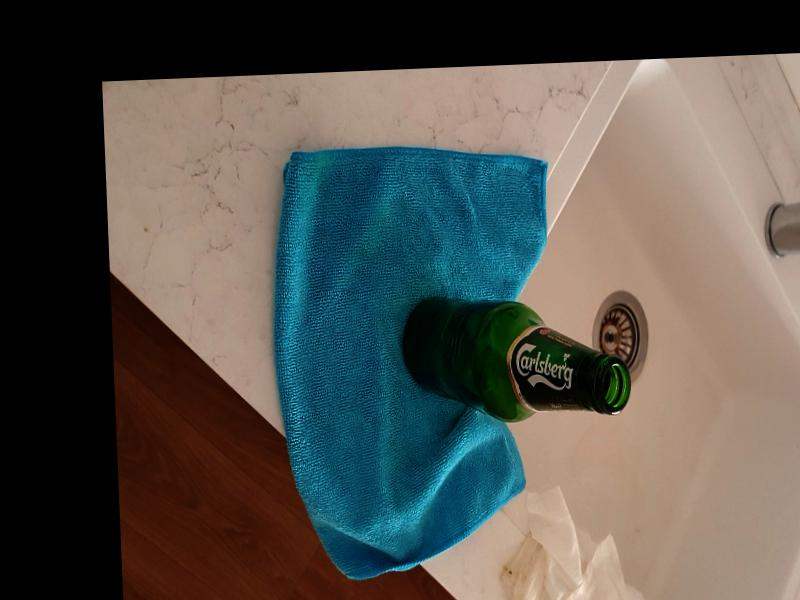Beer: (397, 292, 629, 427)
